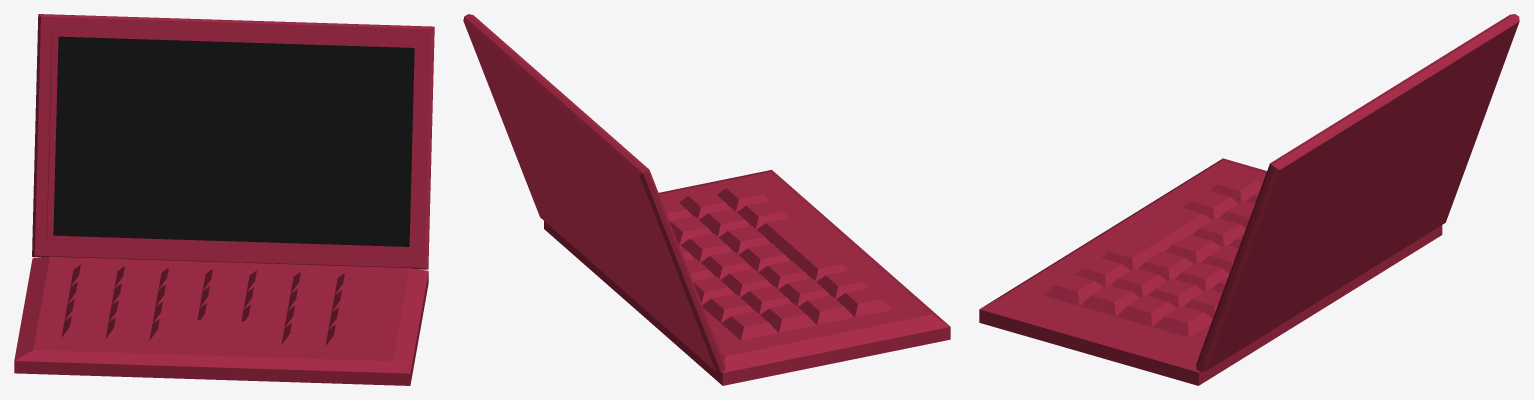
File: laptop.gltf
The picture shows the model from 3 angles, left to right: view 1: azimuth 30°, elevation 25°; view 2: azimuth 150°, elevation 25°; view 3: azimuth 270°, elevation 25°; orthographic projection. The views are drawn at different scales.
Parts seen in each view (by area): view 1: Laptop; view 2: Laptop; view 3: Laptop.
Part boxes in pixels (bbox=[...]): Laptop: bbox=[14, 14, 434, 385]; Laptop: bbox=[463, 14, 950, 385]; Laptop: bbox=[979, 14, 1519, 385].
Size of the model in its own units: 0.6328 by 0.31 by 0.6118.
